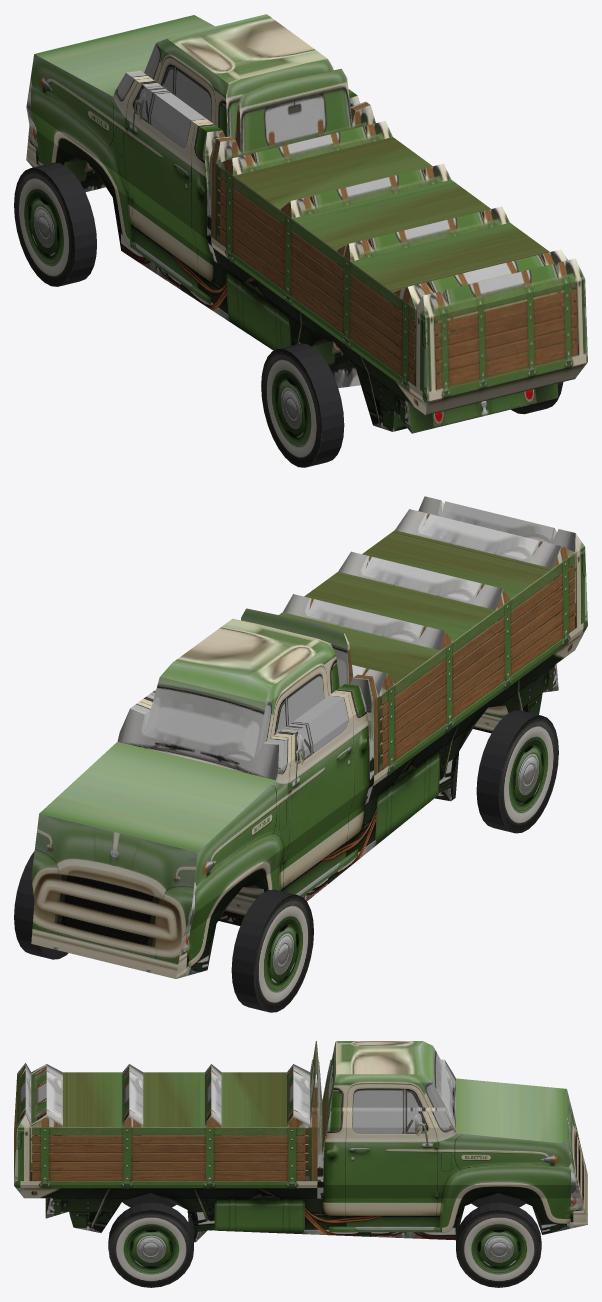
Rendered from farm_pickup_flatbed.glb.
3 renders of one model, top to bottom at view 1: azimuth 30°, elevation 25°; view 2: azimuth 150°, elevation 25°; view 3: azimuth 270°, elevation 25°, orthographic. The views are drawn at different scales.
Parts seen in each view (by area): view 1: farm_pickup_flatbed, wheel_BL, wheel_FL; view 2: farm_pickup_flatbed, wheel_FL, wheel_BL, wheel_FR; view 3: farm_pickup_flatbed, wheel_BR, wheel_FR, wheel_BL, wheel_FL.
Part boxes in pixels (box(x1,y1,x2,y2)): farm_pickup_flatbed: box(26, 14, 587, 433); wheel_BL: box(261, 343, 344, 467); wheel_FL: box(14, 162, 96, 286); farm_pickup_flatbed: box(31, 496, 587, 978); wheel_FL: box(231, 889, 313, 1012); wheel_BL: box(476, 710, 558, 833); wheel_FR: box(14, 851, 68, 959); farm_pickup_flatbed: box(14, 1041, 587, 1242); wheel_BR: box(108, 1202, 193, 1287); wheel_FR: box(456, 1202, 541, 1287); wheel_BL: box(122, 1193, 176, 1207); wheel_FL: box(471, 1193, 525, 1207).
Bounding box in the file's own units: 2.22 × 2.37 × 6.49.
Materials: 3 (1 with a texture image).
